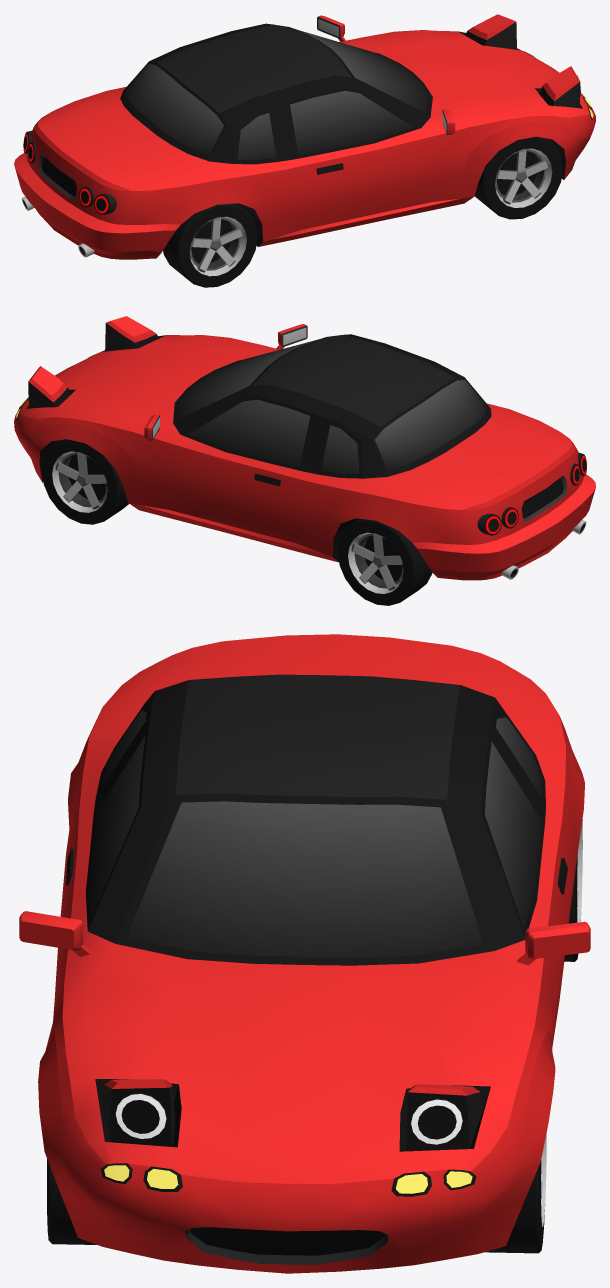
File: Car_202.glb
The picture shows the model from 3 angles, top to bottom: view 1: azimuth 30°, elevation 25°; view 2: azimuth 150°, elevation 25°; view 3: azimuth 270°, elevation 25°; orthographic projection. The views are drawn at different scales.
Parts seen in each view (by area): view 1: Car_202, wheel_3_Car_202_Wheel_3R, wheel_1_Car_202_Wheel_2R; view 2: Car_202, wheel_2_Car_202_Wheel_3L, wheel_0_Car_202_Wheel_1L; view 3: Car_202, wheel_0_Car_202_Wheel_1L, wheel_1_Car_202_Wheel_2R, wheel_2_Car_202_Wheel_3L.
Part boxes in pixels (<box>): Car_202: <box>14,14,595,259</box>; wheel_3_Car_202_Wheel_3R: <box>163,203,257,287</box>; wheel_1_Car_202_Wheel_2R: <box>475,136,562,219</box>; Car_202: <box>14,316,595,580</box>; wheel_2_Car_202_Wheel_3L: <box>337,518,432,605</box>; wheel_0_Car_202_Wheel_1L: <box>42,439,128,524</box>; Car_202: <box>19,634,590,1273</box>; wheel_0_Car_202_Wheel_1L: <box>485,1133,546,1253</box>; wheel_1_Car_202_Wheel_2R: <box>47,1159,96,1244</box>; wheel_2_Car_202_Wheel_3L: <box>564,819,582,961</box>.
Size of the model in its own units: 4.26 by 1.28 by 2.04.
Materials: 2 (2 with a texture image).
